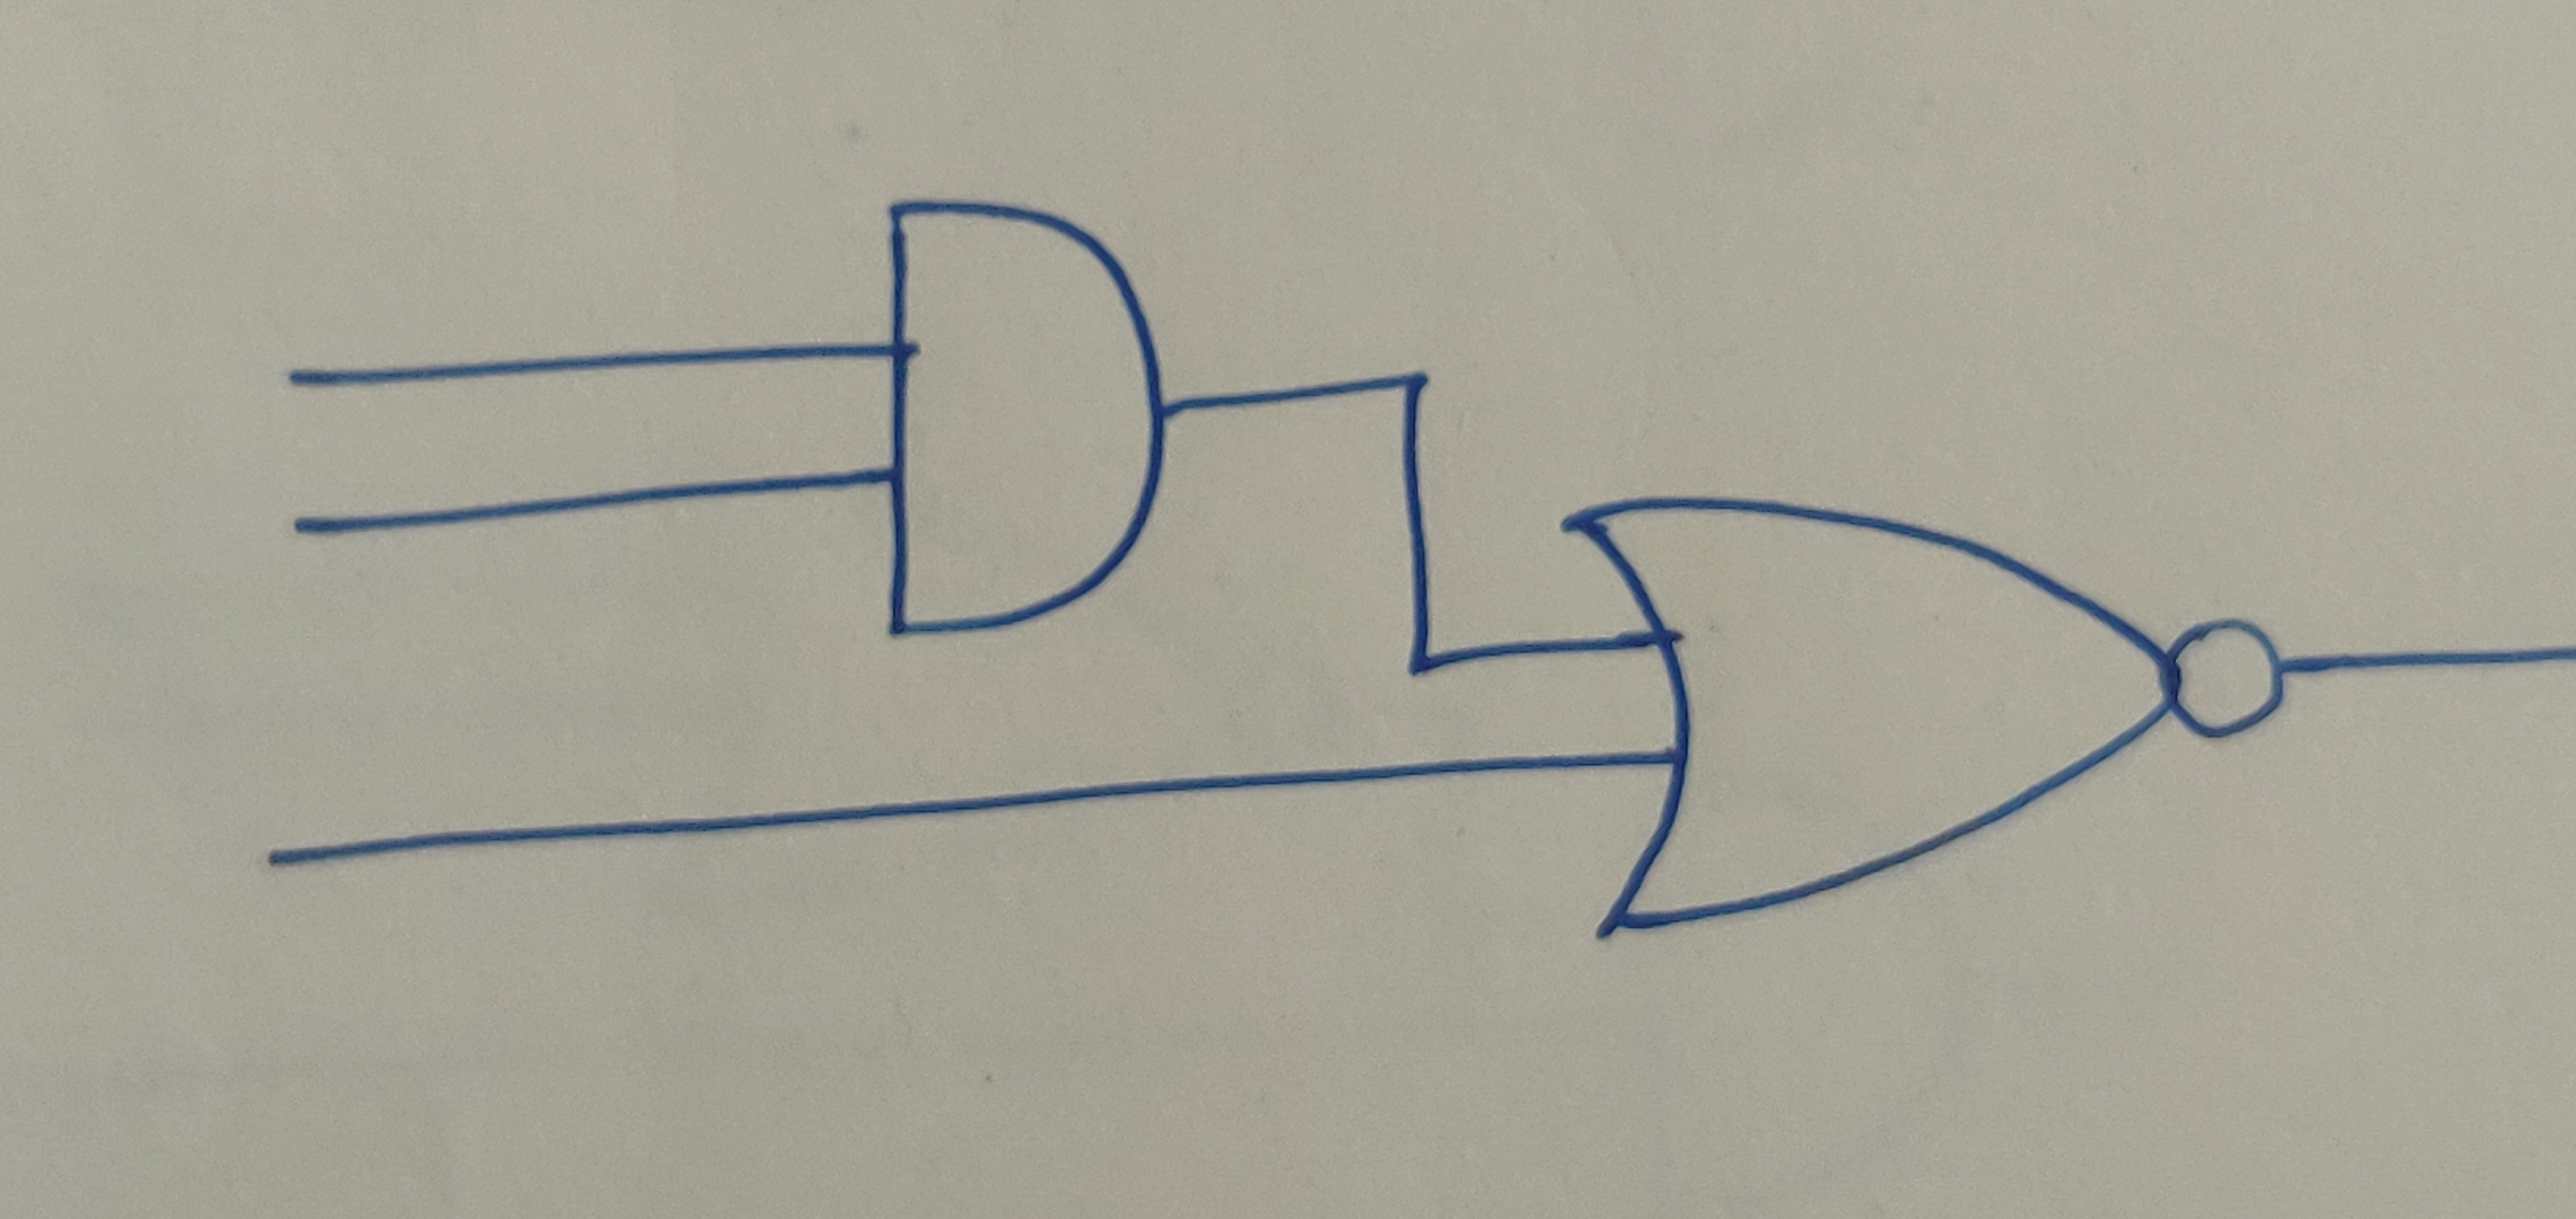and: (879, 184, 1166, 646)
not: (2160, 609, 2293, 747)
or: (1551, 494, 2177, 946)
